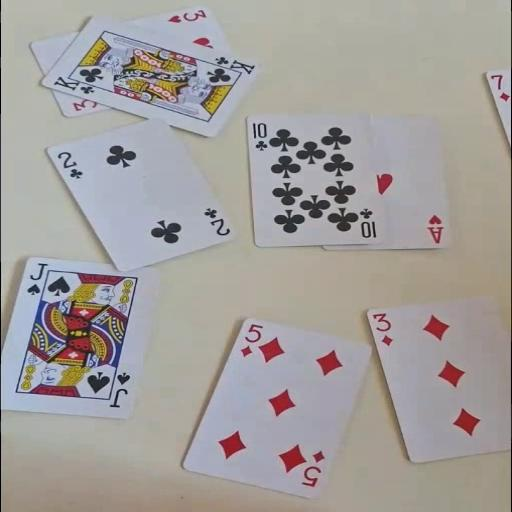10: (358, 206, 377, 239), (250, 121, 269, 151)
2: (200, 205, 232, 237), (54, 150, 84, 180)
3: (370, 311, 394, 347), (165, 7, 208, 24)
5: (298, 448, 326, 488), (236, 322, 264, 358)
7: (488, 72, 510, 102)
A: (425, 213, 445, 244)
J: (106, 370, 132, 409), (24, 261, 48, 297)
K: (50, 74, 97, 95)
